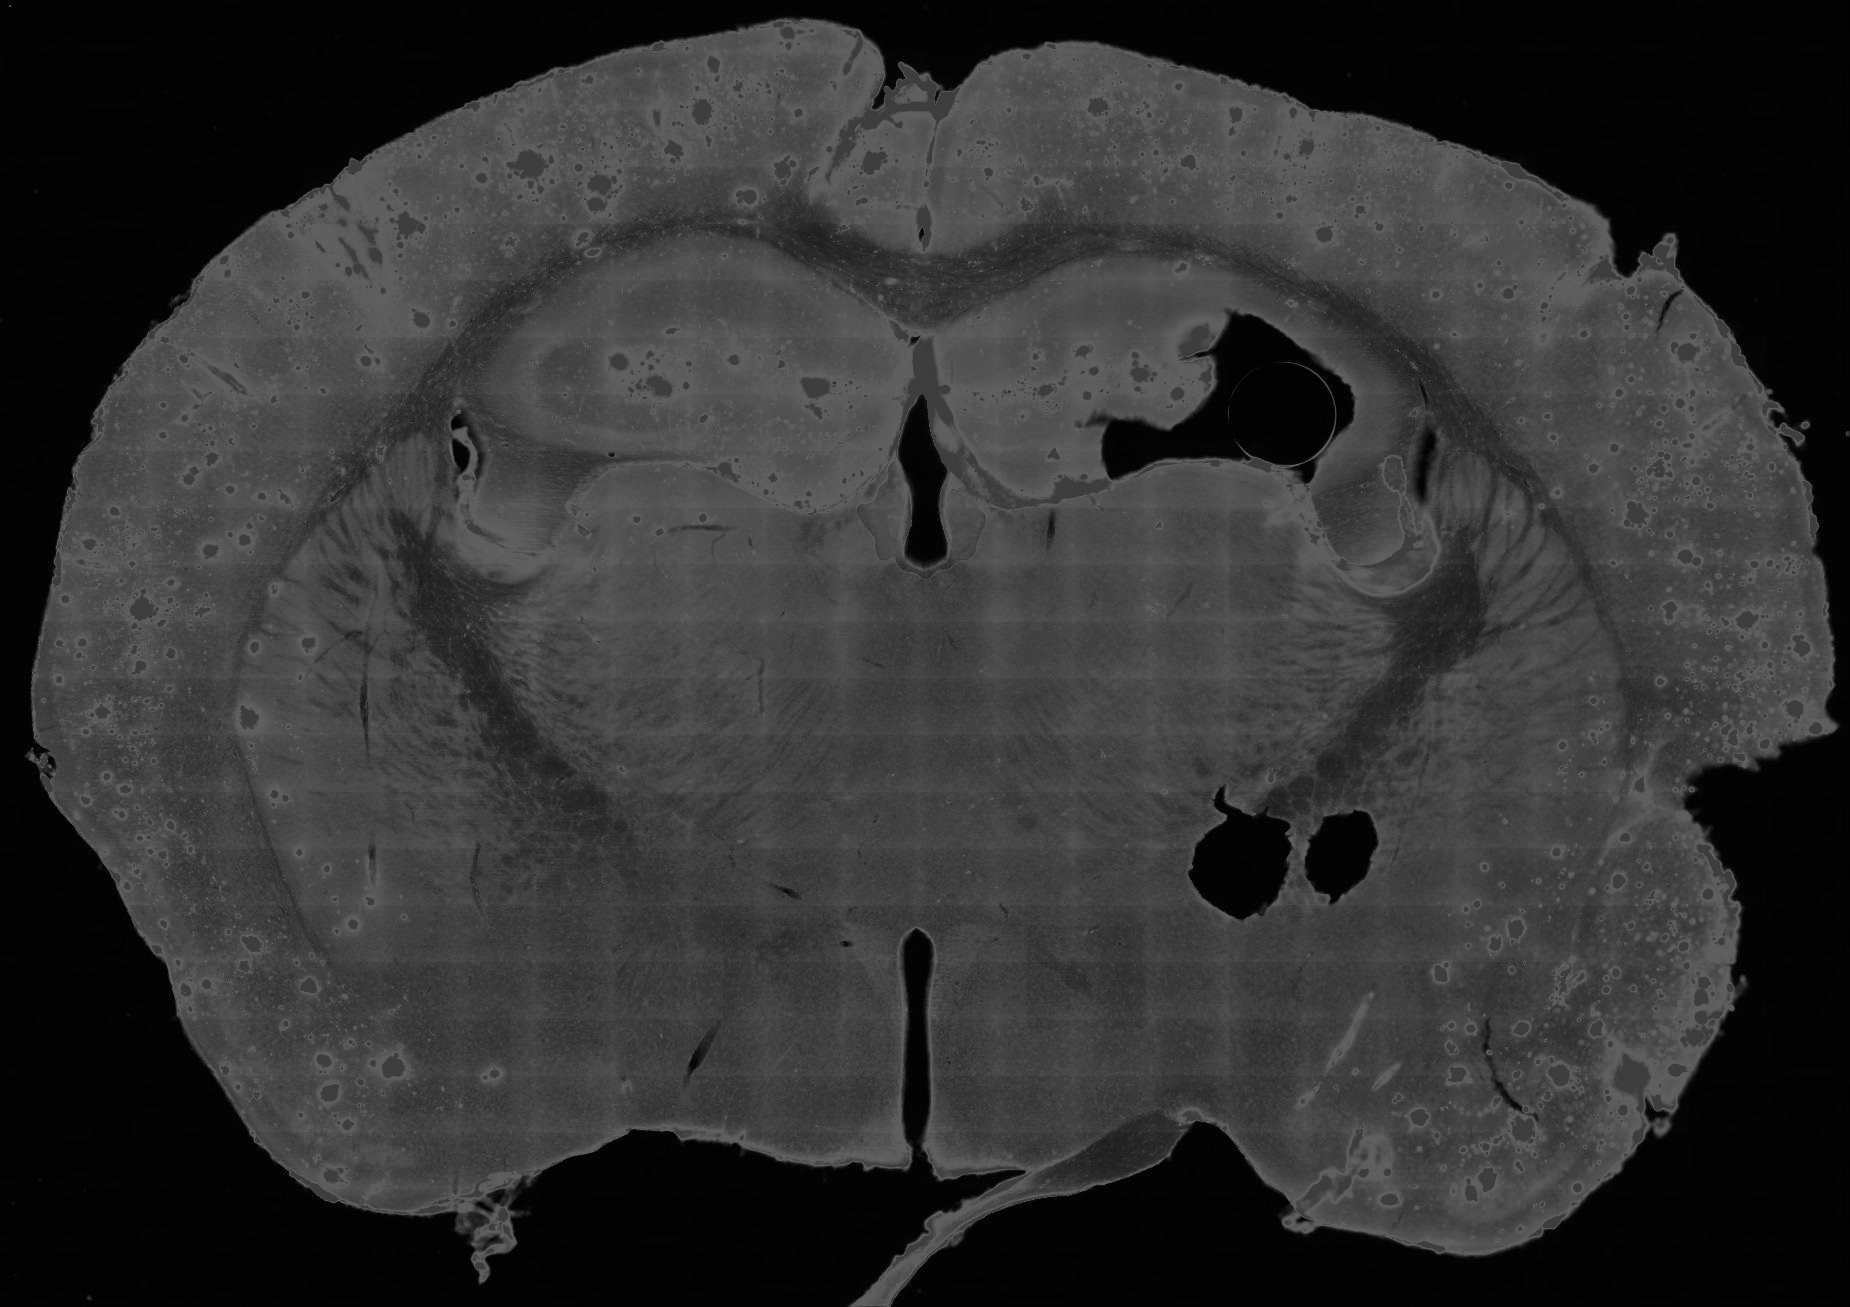Cerebral nuclei: (1410, 437, 1627, 1014), (231, 429, 437, 970)
Hippocampal formation: (914, 256, 1403, 511), (477, 232, 914, 508)
Hypothalamus: (917, 818, 1273, 1177), (542, 840, 918, 1170)
Retrosplenial area: (823, 30, 942, 257), (919, 44, 1035, 257)
Somatosensory area: (88, 59, 644, 528), (1250, 106, 1792, 536)
Thalamus: (919, 463, 1399, 902), (479, 455, 924, 925)
